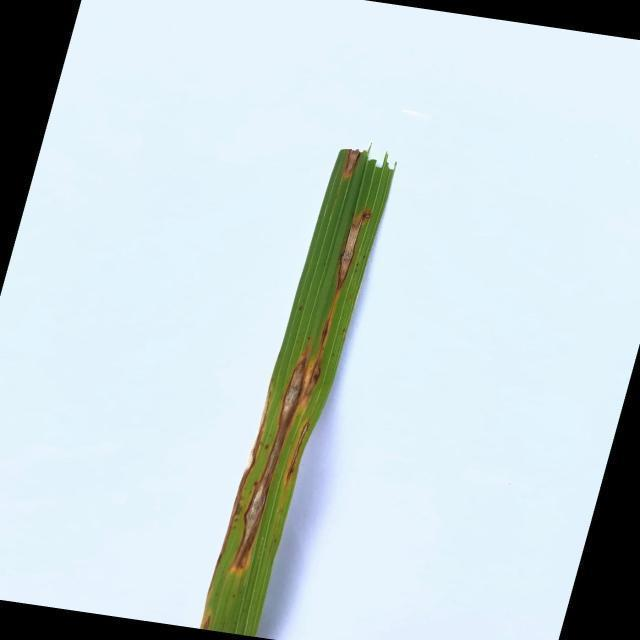Leaf_Blast: (229, 353, 310, 572), (334, 209, 371, 294), (318, 306, 335, 352), (303, 358, 323, 397), (342, 151, 361, 180)
